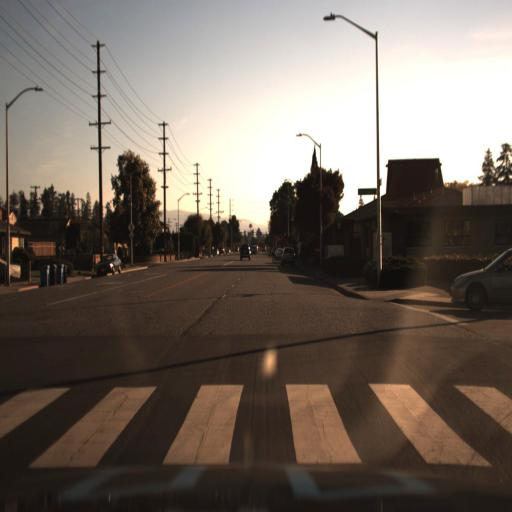car: (450, 248, 511, 318), (89, 246, 124, 282), (90, 250, 122, 279), (279, 244, 298, 272), (235, 240, 254, 267)
